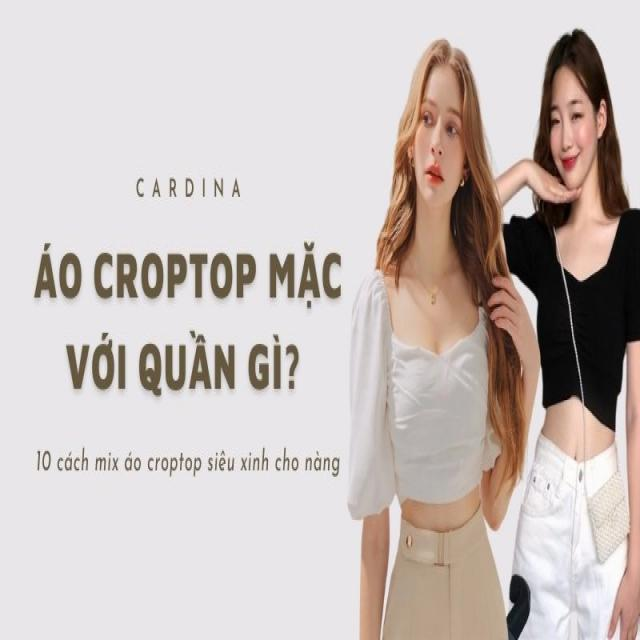clothes: (344, 249, 507, 640), (501, 205, 640, 640)
